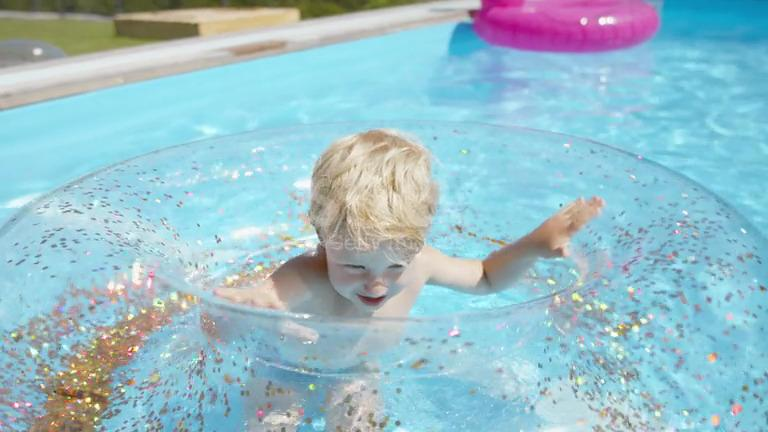Swimming: (37, 82, 727, 429)
